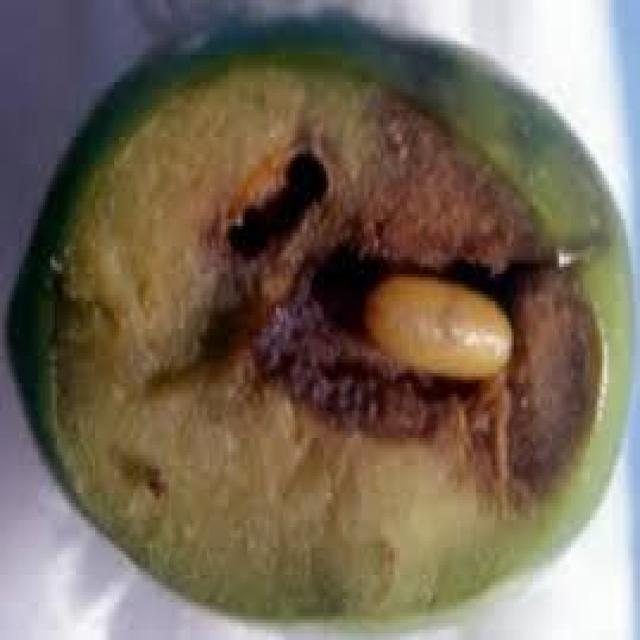Anthracnose: (17, 14, 630, 626)
